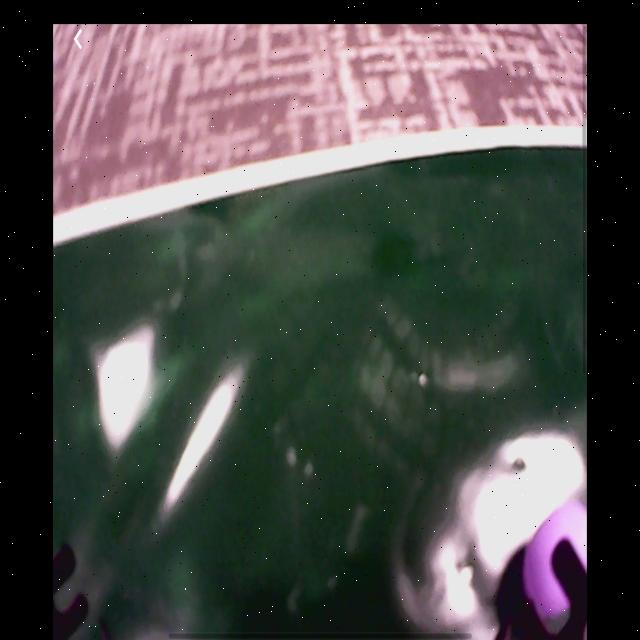ball: (528, 484, 586, 628)
